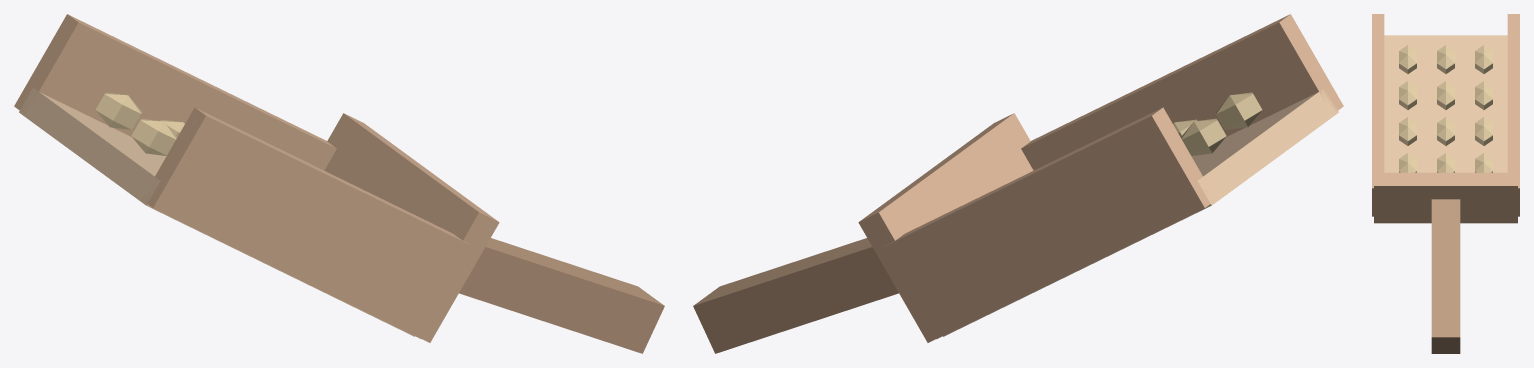
File: crafted-tool-feed-scoop-0.glb
3 views of the same model, side by side, from view 1: azimuth 30°, elevation 25°; view 2: azimuth 150°, elevation 25°; view 3: azimuth 270°, elevation 25° (orthographic). The views are drawn at different scales.
Visible parts, largest first — view 1: side-1, side, handle, back, floor, grain, grain-4; view 2: side, side-1, handle, back, floor, grain-8, grain-4; view 3: floor, back, handle, side, side-1, grain-2, grain-5, grain-6, grain-10, grain-1, grain-9, grain (+5 smaller).
Part boxes in pixels (<box>): side-1: <box>142,107,474,339</box>; side: <box>14,14,336,170</box>; handle: <box>459,238,664,353</box>; back: <box>324,113,499,342</box>; floor: <box>19,87,414,336</box>; grain: <box>95,92,142,129</box>; grain-4: <box>131,118,177,155</box>; side: <box>883,107,1210,339</box>; side-1: <box>1021,14,1343,170</box>; handle: <box>693,238,898,353</box>; back: <box>858,113,1033,342</box>; floor: <box>943,89,1338,336</box>; grain-8: <box>1215,92,1262,129</box>; grain-4: <box>1180,118,1226,155</box>; floor: <box>1384,35,1507,172</box>; back: <box>1374,172,1517,223</box>; handle: <box>1431,199,1460,353</box>; side: <box>1507,14,1519,216</box>; side-1: <box>1372,14,1384,216</box>; grain-2: <box>1475,117,1492,145</box>; grain-5: <box>1437,81,1454,109</box>; grain-6: <box>1437,117,1454,145</box>; grain-10: <box>1399,117,1416,145</box>; grain-1: <box>1475,81,1492,109</box>; grain-9: <box>1399,81,1416,109</box>; grain: <box>1475,45,1492,73</box>.
Size of the model in its own units: 0.7986 by 0.5357 by 0.338.
